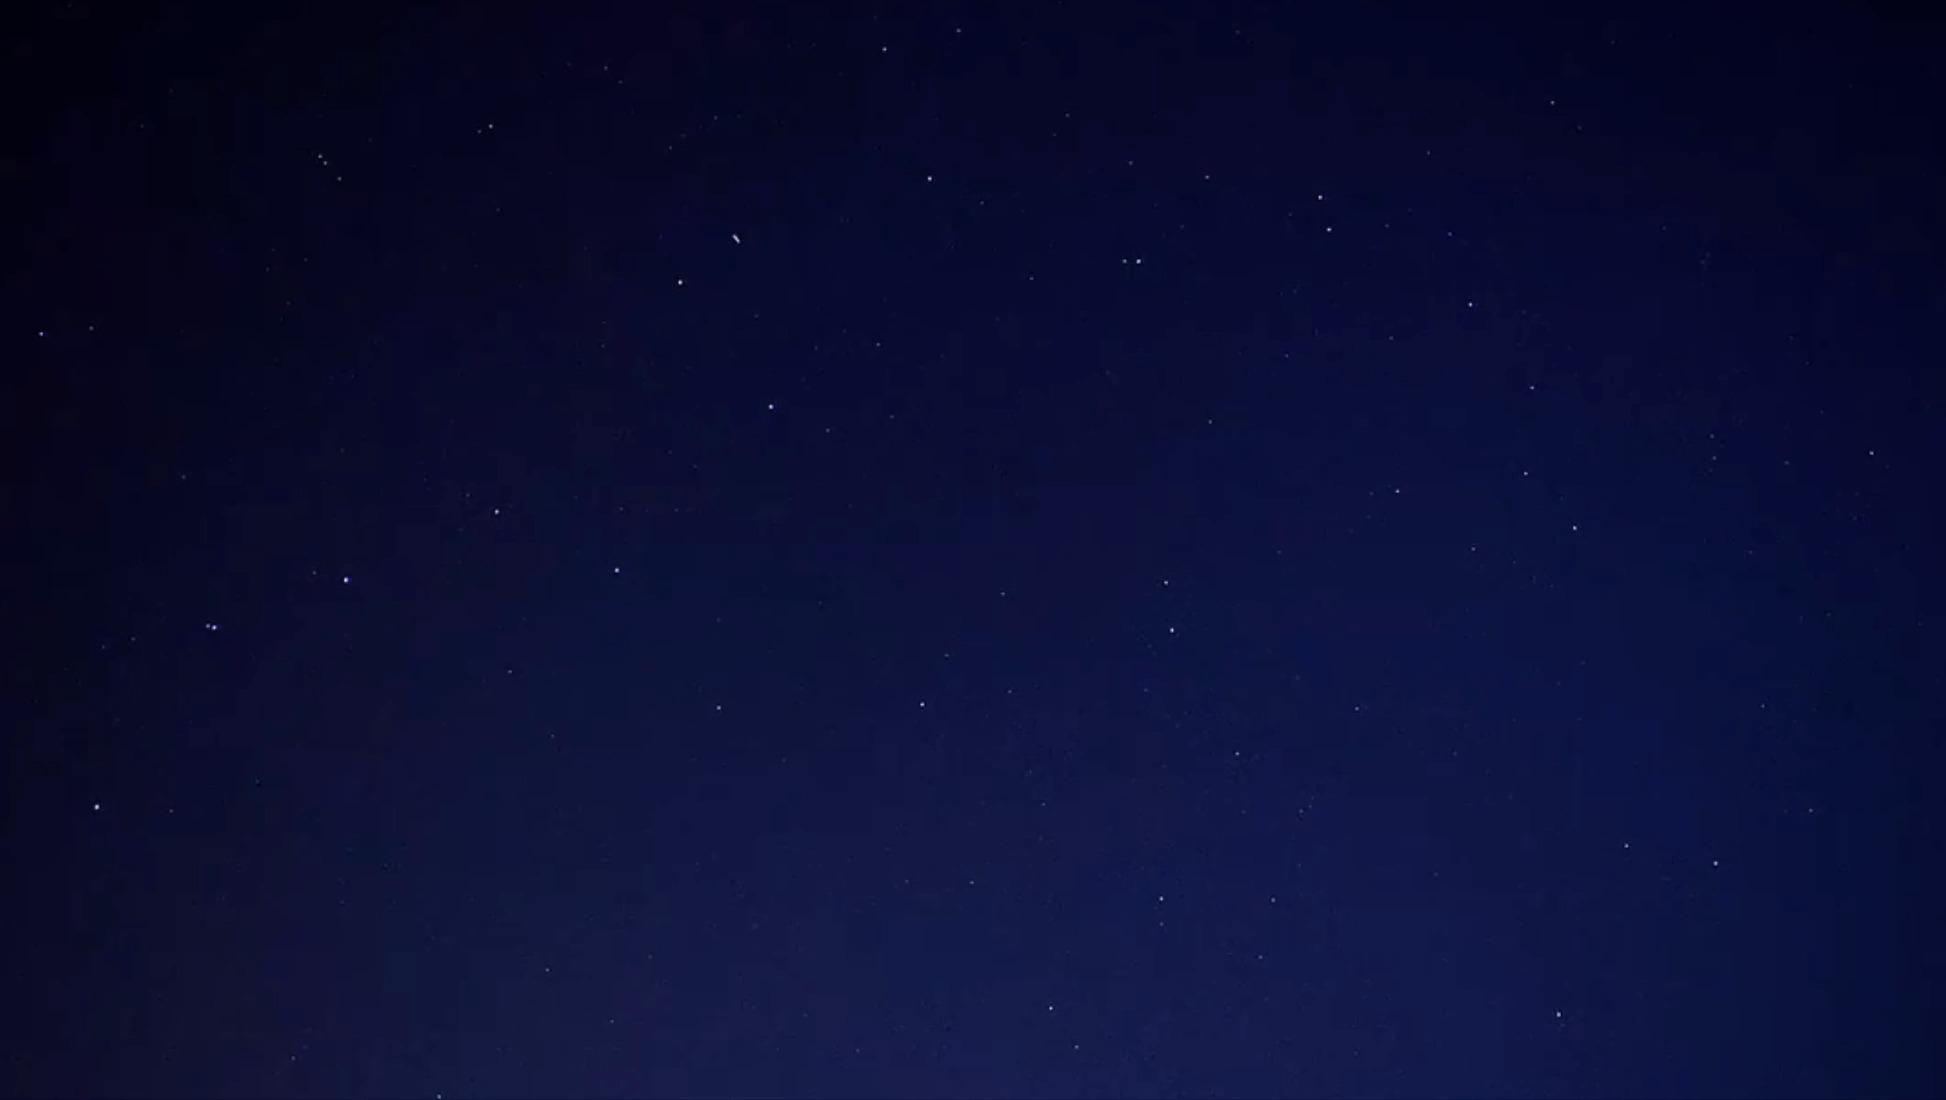meteorite: (722, 227, 758, 254)
